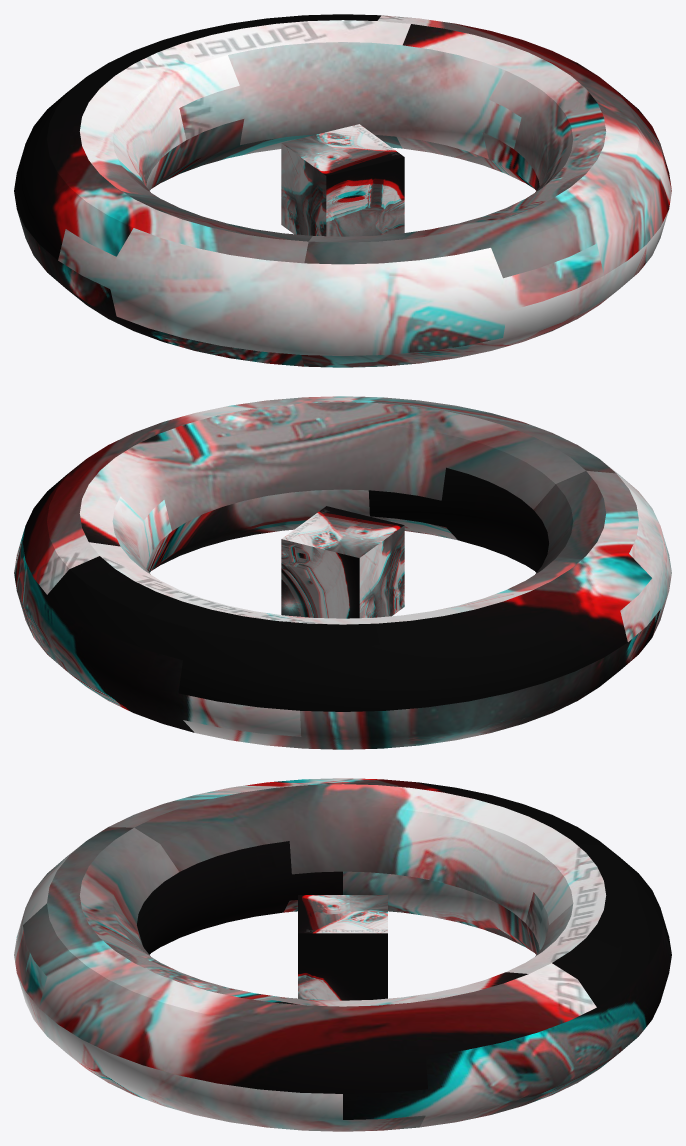
File: astronut.fbx
3 views of the same model, one above another, from view 1: azimuth 30°, elevation 25°; view 2: azimuth 150°, elevation 25°; view 3: azimuth 270°, elevation 25° (orthographic).
Visible parts, largest first — view 1: Torus, Cube; view 2: Torus, Cube; view 3: Torus, Cube.
Boxes of the visible parts, x1,y1,x2,y2 form: Torus: (14,14,671,367); Cube: (281,124,404,236); Torus: (14,396,671,749); Cube: (281,506,404,618); Torus: (14,778,671,1131); Cube: (298,895,387,1000).
Size of the model in its own units: 1459 by 292 by 1459.
Materials: 1 (1 with a texture image).
